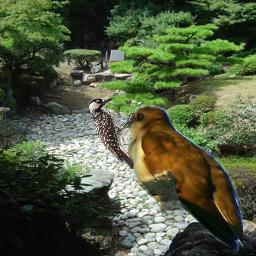Cuckoo: (117, 105, 243, 253)
Woodpecker: (88, 97, 137, 169)
